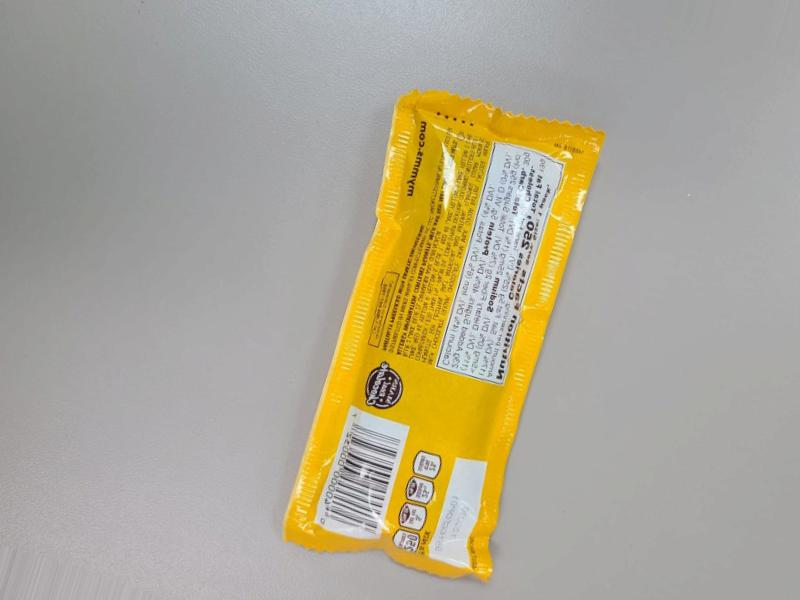m&m: (358, 79, 586, 591)
